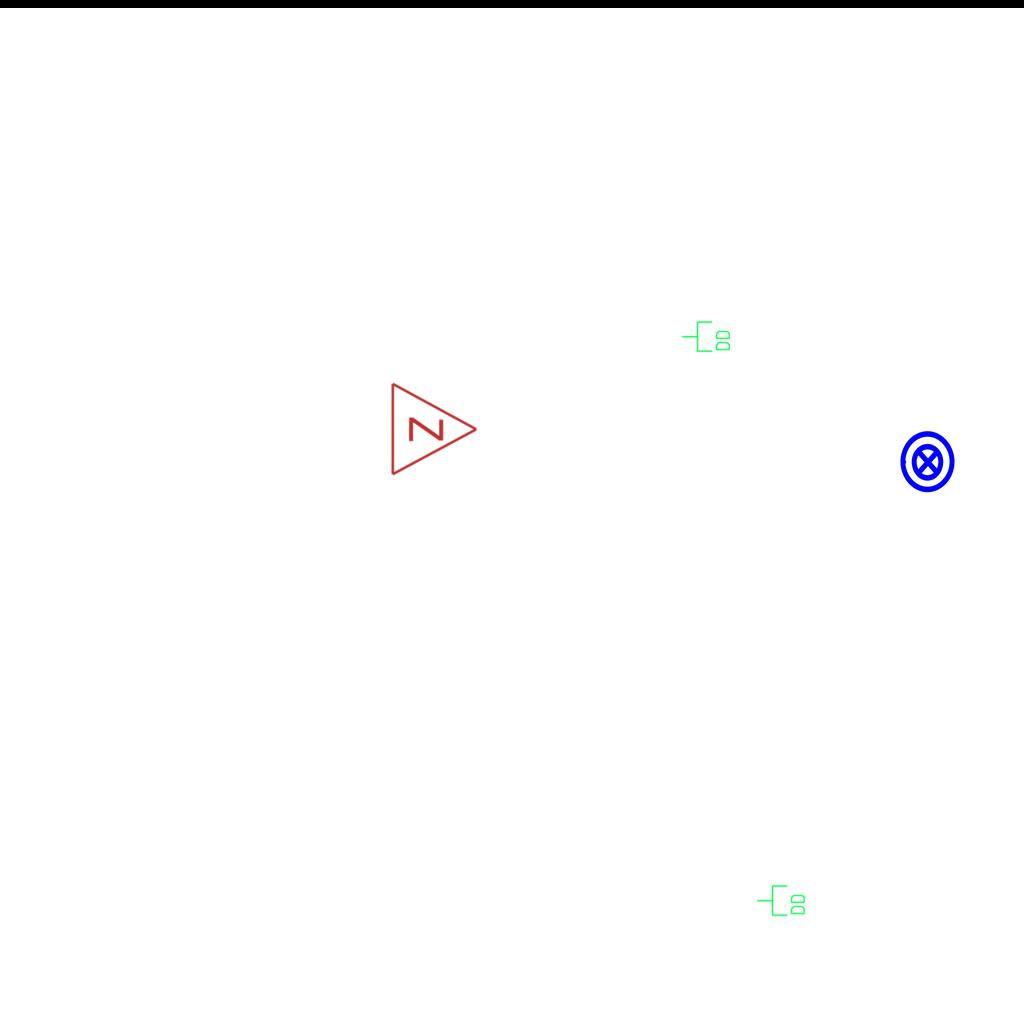Datenanschluss_zweifach: (681, 320, 732, 354), (756, 884, 807, 918)
Taster_beleuchtet: (895, 429, 961, 495)
Zimmersignalleuchte: (384, 379, 484, 477)
